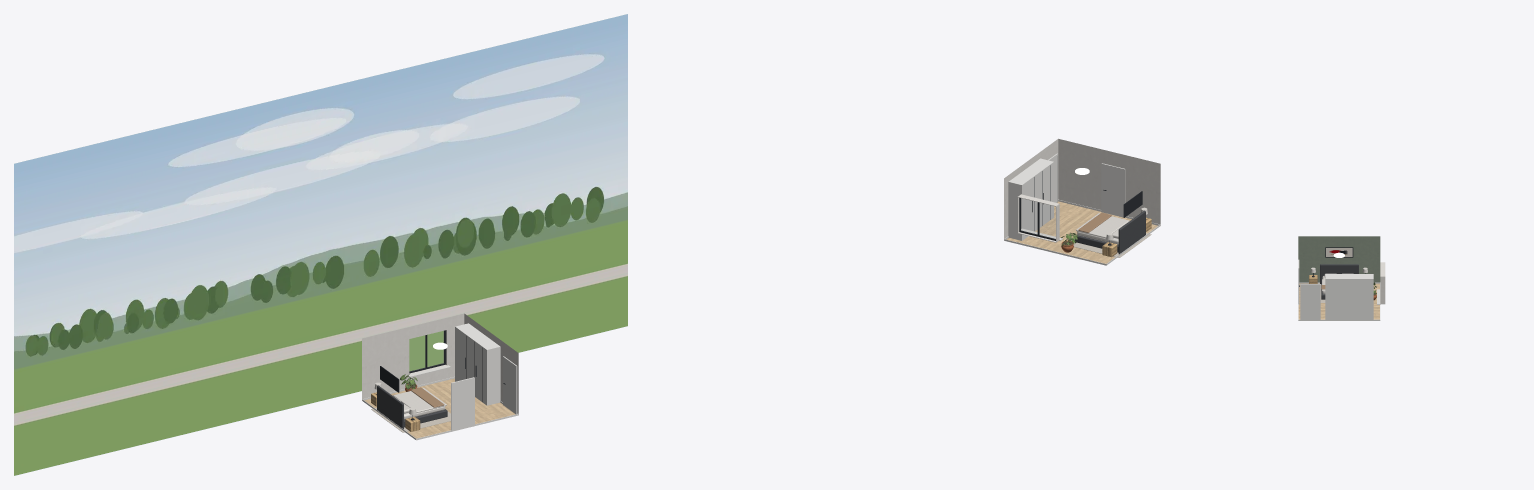
The model's file is bedroom.glb.
3 views of the same model, side by side, from view 1: azimuth 30°, elevation 25°; view 2: azimuth 150°, elevation 25°; view 3: azimuth 270°, elevation 25° (orthographic). The views are drawn at different scales.
Visible parts, largest first — view 1: Mesh_21, bedroom_baked; view 2: bedroom_baked; view 3: bedroom_baked.
Part boxes in pixels (box(x1,y1,x2,y2)): Mesh_21: box(14, 14, 627, 475); bedroom_baked: box(362, 313, 518, 440); bedroom_baked: box(1004, 138, 1160, 265); bedroom_baked: box(1298, 236, 1385, 320).
Bounding box in the file's own units: 28.8 × 14 × 11.91.
Materials: 18 (14 with a texture image).
